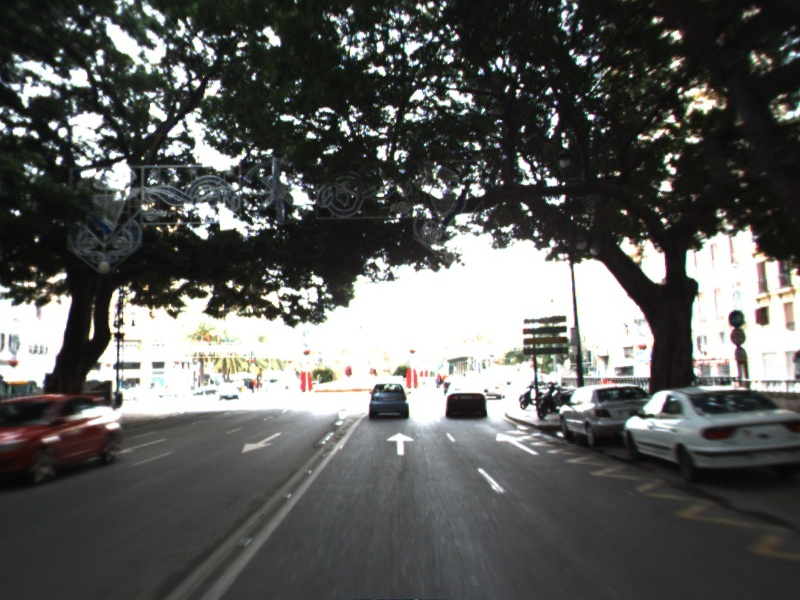STRAIGHT: (493, 431, 542, 457), (385, 430, 417, 457)
